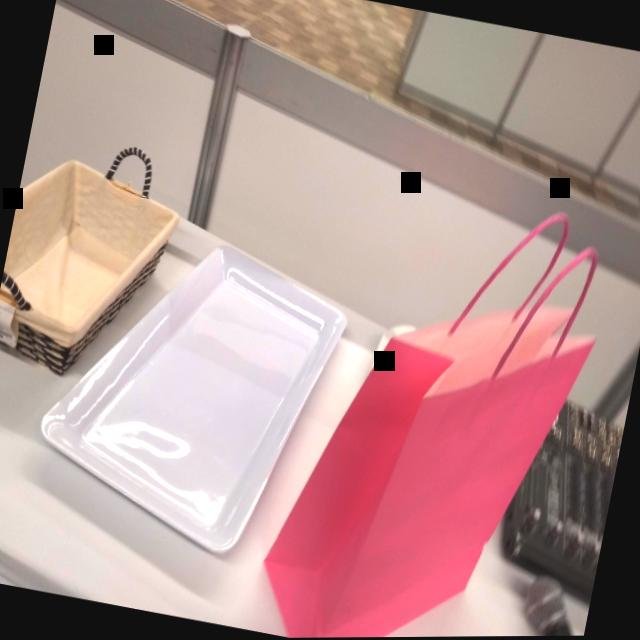basket: (0, 120, 190, 384)
help_me_carry_opl: (248, 167, 618, 639)
tray: (20, 214, 361, 577)
